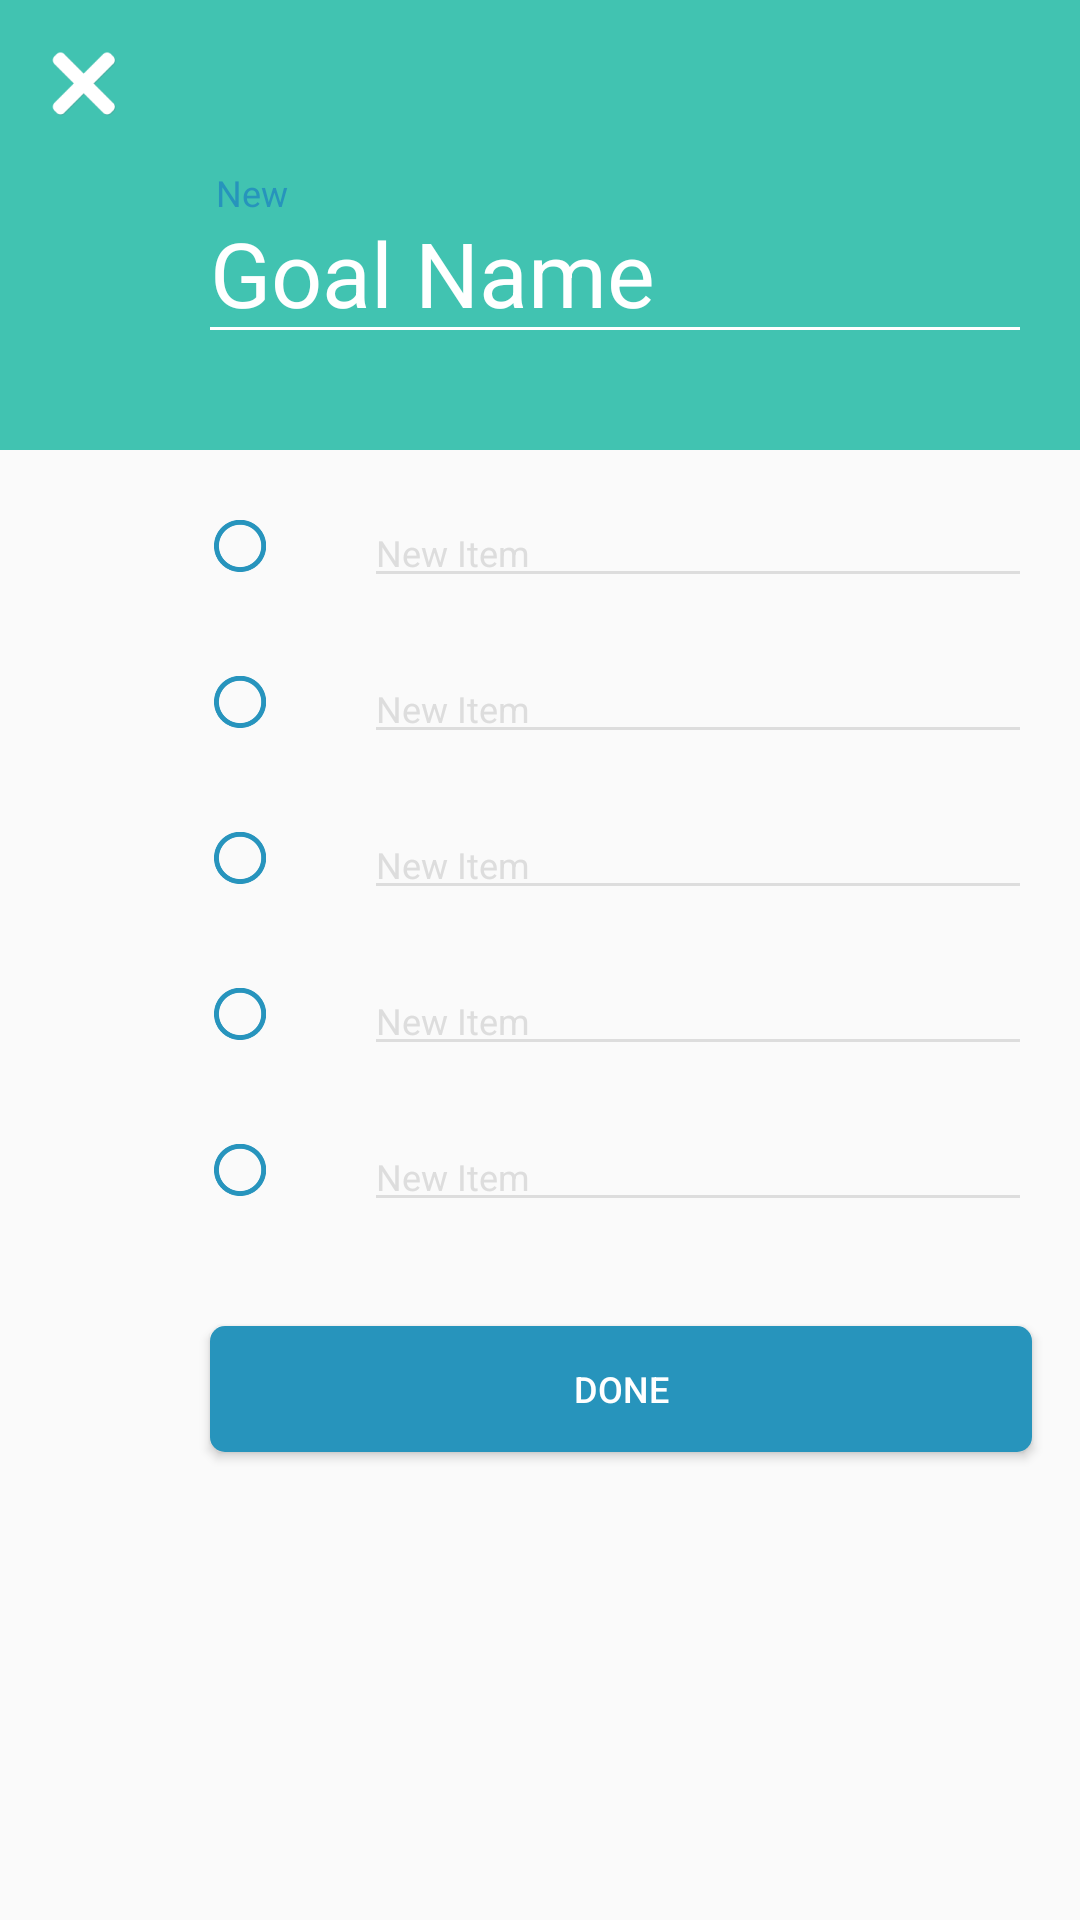

Where icons sit on this 1080×1920 app screen, as (x1, y1, x2, y2):
close: (52, 52, 115, 115)
dot empty: (214, 520, 266, 572), (214, 676, 266, 728), (214, 832, 266, 884), (214, 988, 266, 1040), (214, 1144, 266, 1196)
